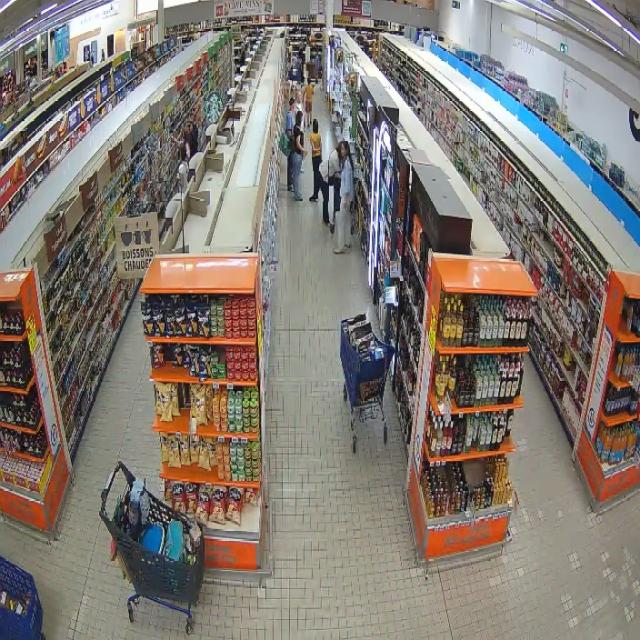bags: (328, 157, 335, 186)
hands: (341, 197, 349, 206), (303, 150, 307, 156)
person: (334, 141, 353, 254), (320, 147, 339, 233), (292, 111, 306, 200), (285, 97, 295, 191), (310, 119, 321, 202), (179, 145, 189, 194), (182, 125, 195, 161), (190, 119, 199, 153)
